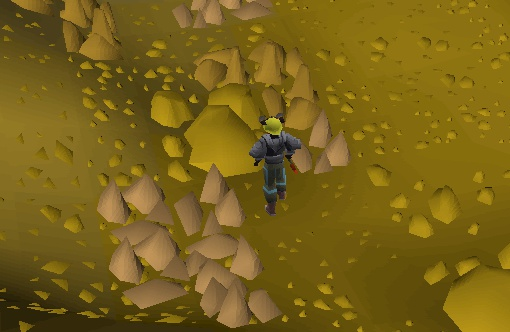granite: (79, 161, 181, 246), (184, 247, 286, 332)
sandstone: (256, 61, 325, 134)
